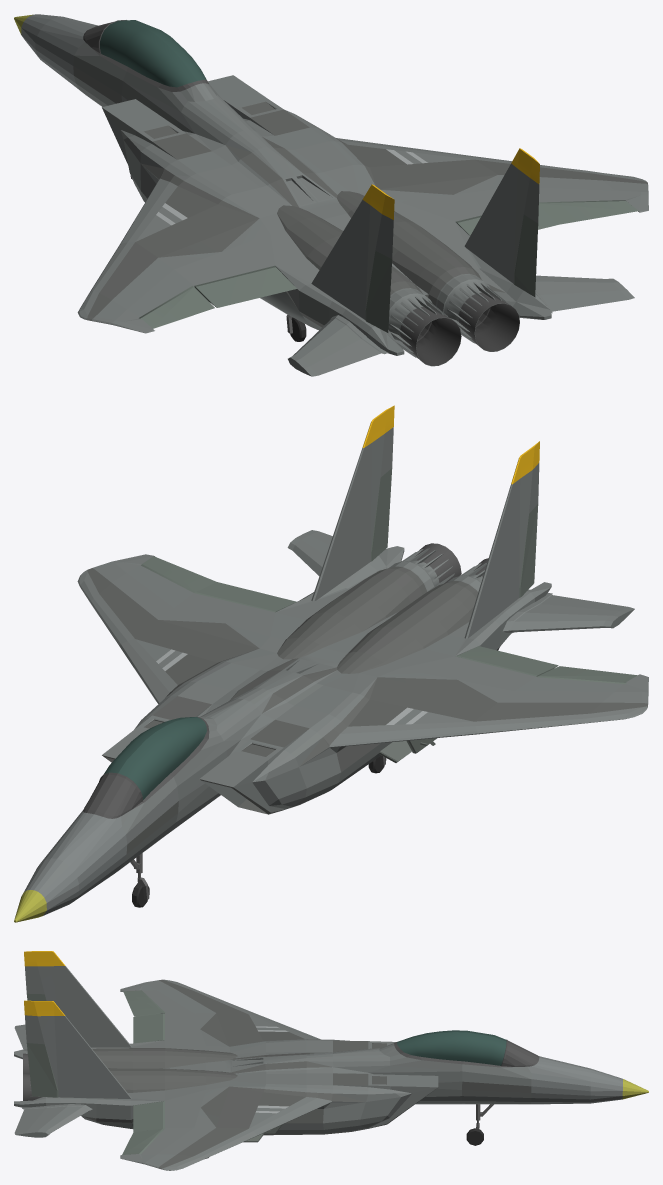
Rendered from model_fighter_jet.fbx.
3 views of the same model, one above another, from view 1: azimuth 30°, elevation 25°; view 2: azimuth 150°, elevation 25°; view 3: azimuth 270°, elevation 25° (orthographic). The views are drawn at different scales.
Parts seen in each view (by area): view 1: model_fighter_jet, flap1, back1, back2, flap2; view 2: model_fighter_jet, flap1, flap2, back2, back1; view 3: model_fighter_jet, back2, flap2, flap1, landing_gear_front.
Boxes of the visible parts, x1,y1,x2,y2 form: model_fighter_jet: (14,14,648,376); flap1: (194,265,296,307); back1: (365,251,392,332); back2: (514,214,538,297); flap2: (455,205,558,235); model_fighter_jet: (14,405,648,922); flap1: (455,646,558,676); flap2: (194,582,296,612); back2: (371,468,392,561); back1: (519,504,538,597); model_fighter_jet: (14,951,648,1170); back2: (26,1043,58,1097); flap2: (133,1101,164,1132); flap1: (133,1013,164,1043); landing_gear_front: (466,1104,493,1145).
Bounding box in the file's own units: 1308 × 542 × 1847.
